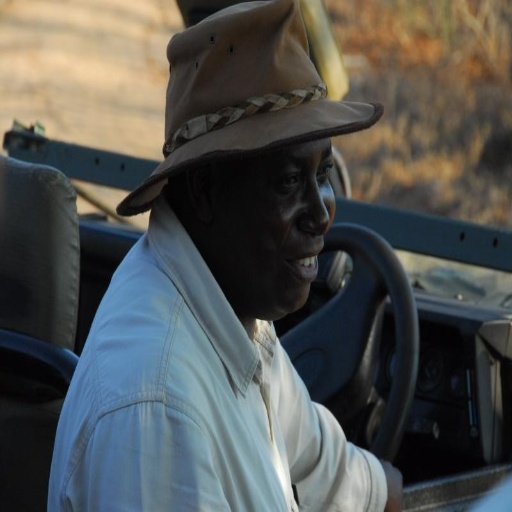hand: (381, 458, 403, 510)
